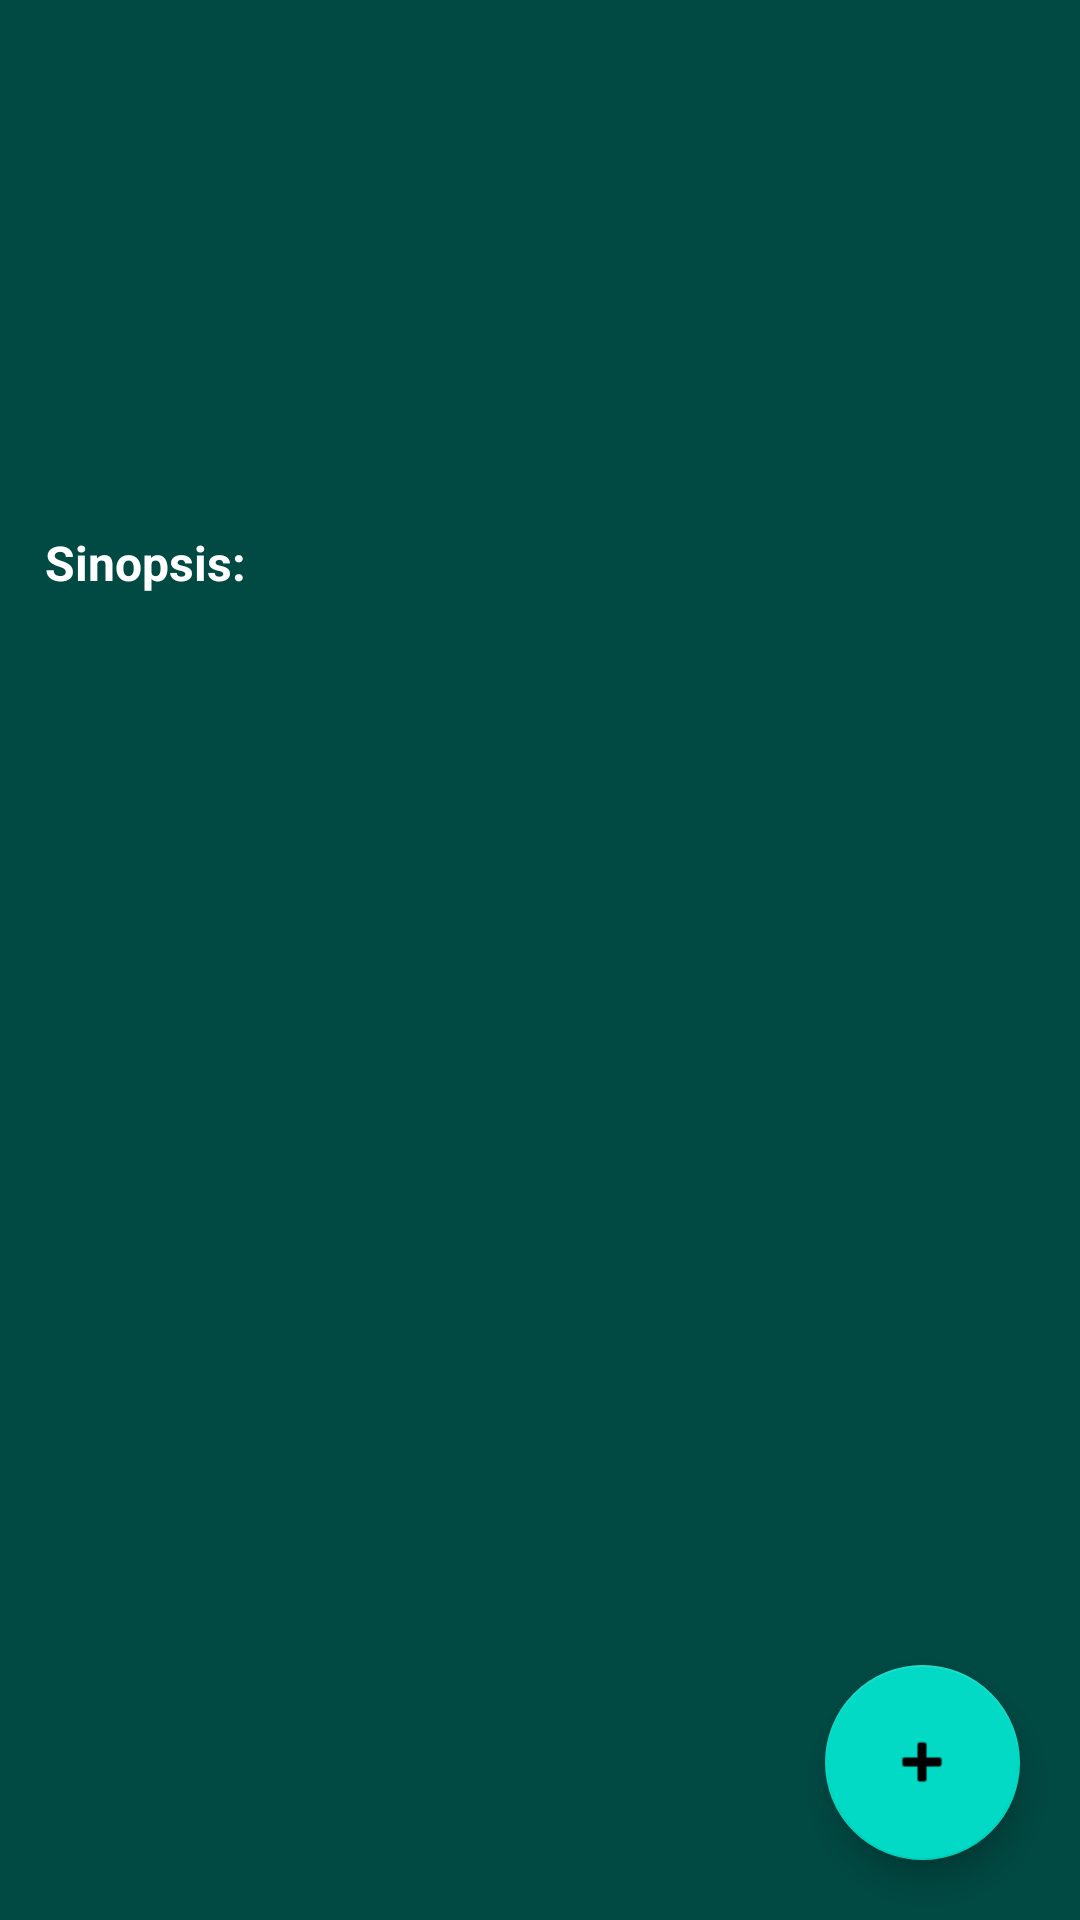

Icon click points for this 1080px x 1920px phone screenshot, format (x=x, y=y):
add: (x=922, y=1762)
